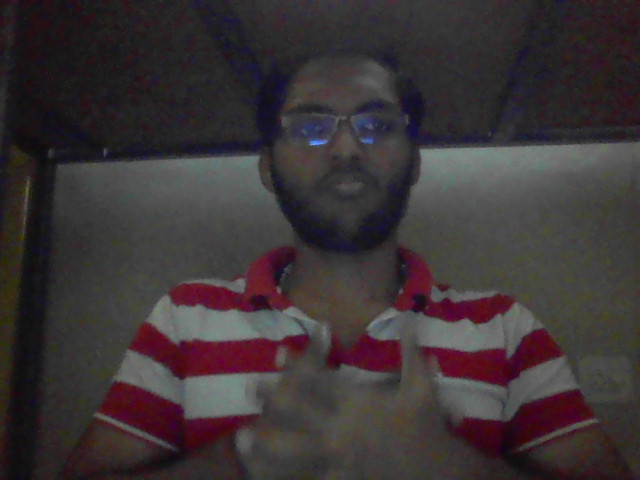Yes_Hungry: (233, 320, 530, 480)
